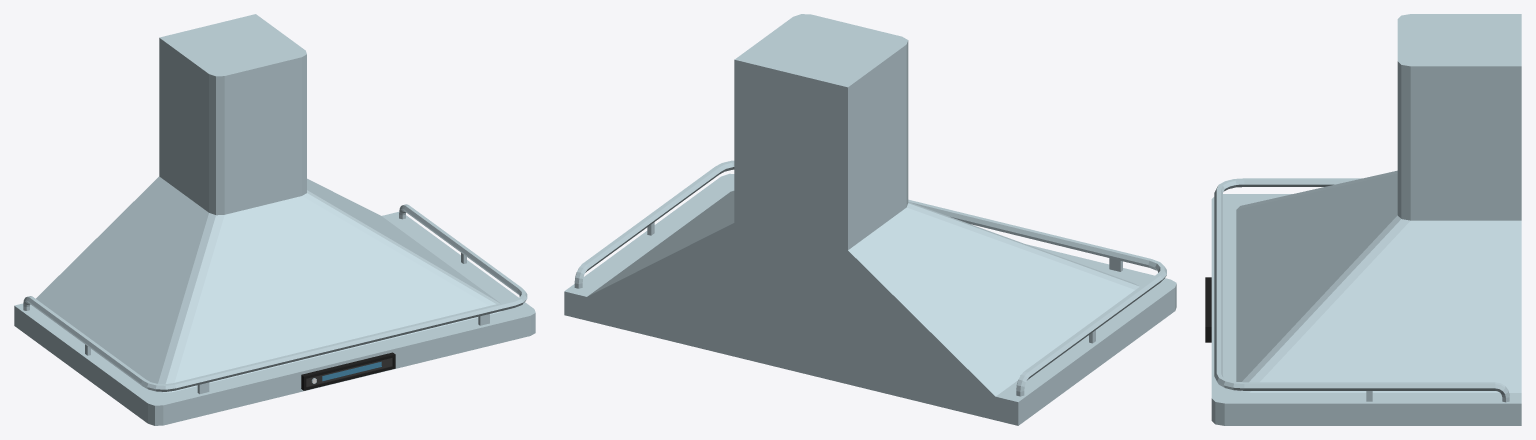
The model's file is KA-F800_Fan_V1.glb.
3 views of the same model, side by side, from view 1: azimuth 30°, elevation 25°; view 2: azimuth 150°, elevation 25°; view 3: azimuth 270°, elevation 25° (orthographic). The views are drawn at different scales.
Parts seen in each view (by area): view 1: KA-F800_Fan_V1; view 2: KA-F800_Fan_V1; view 3: KA-F800_Fan_V1.
Part boxes in pixels (x1,y1,x2,y2): KA-F800_Fan_V1: (14,14,535,425); KA-F800_Fan_V1: (564,14,1176,425); KA-F800_Fan_V1: (1205,14,1521,425).
Size of the model in its own units: 0.8 by 0.5 by 0.51.
1 material, 1 textured.
